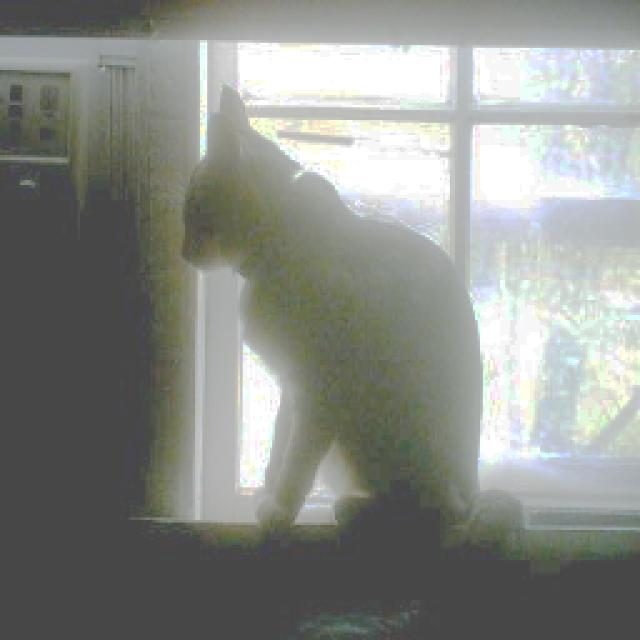cat: (174, 80, 532, 536)
